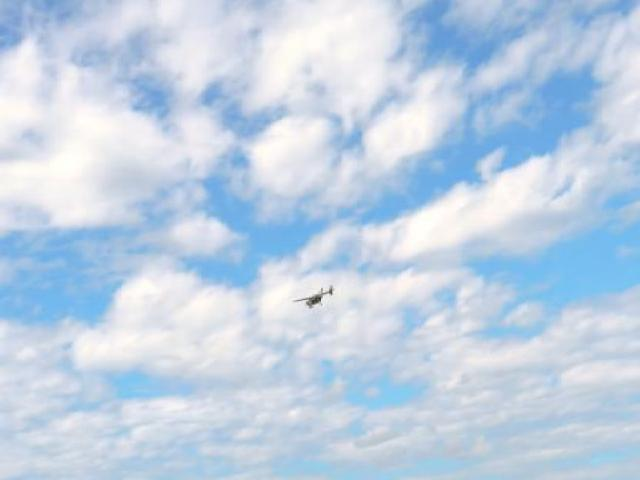uav: (293, 283, 336, 311)
